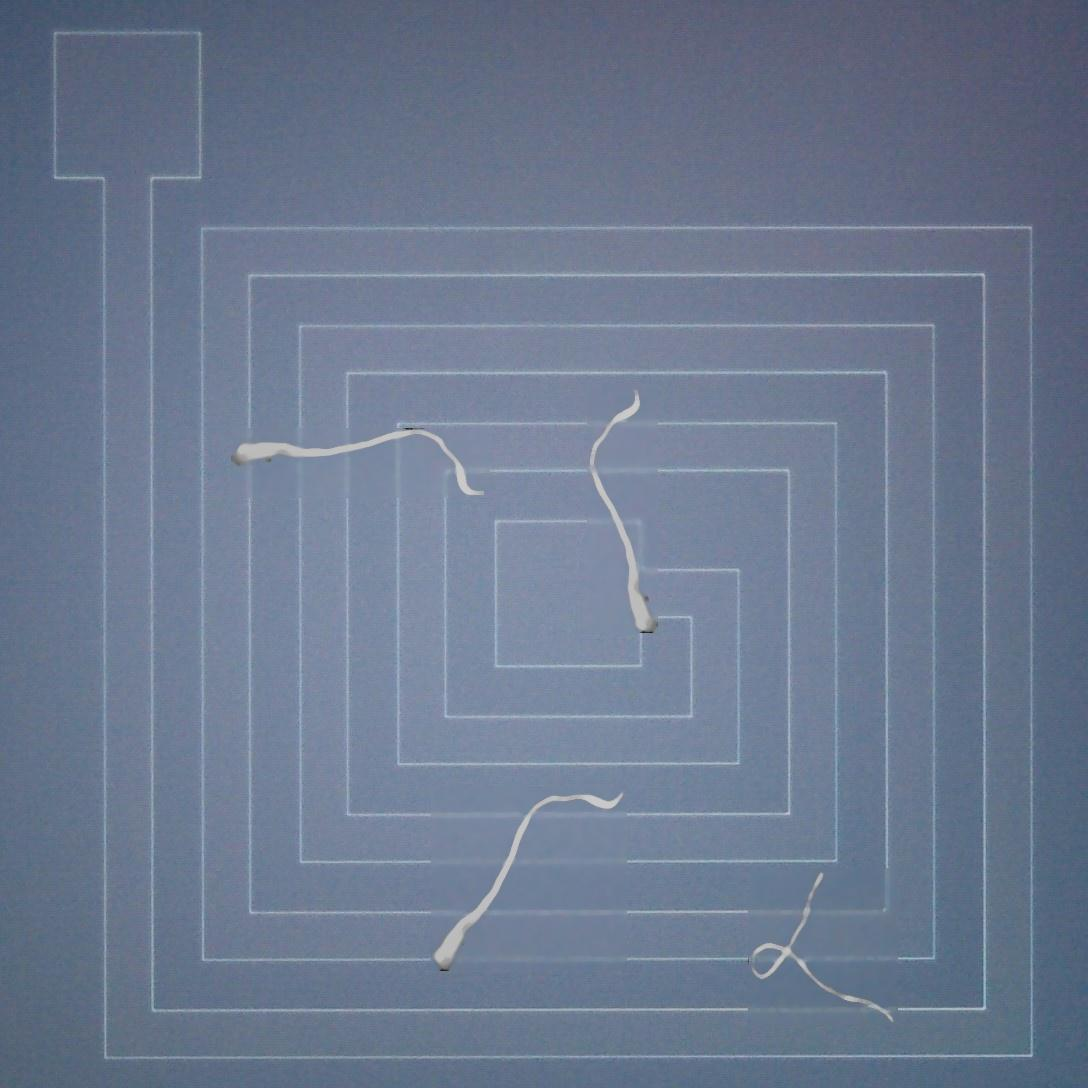foreign: (429, 781, 633, 978), (746, 866, 901, 1032), (224, 418, 495, 505), (580, 385, 667, 641)
